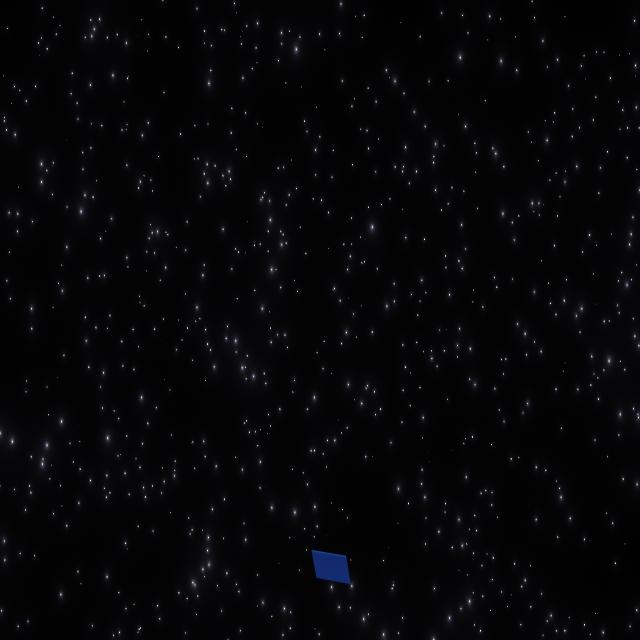large_debris: (310, 544, 356, 590)
